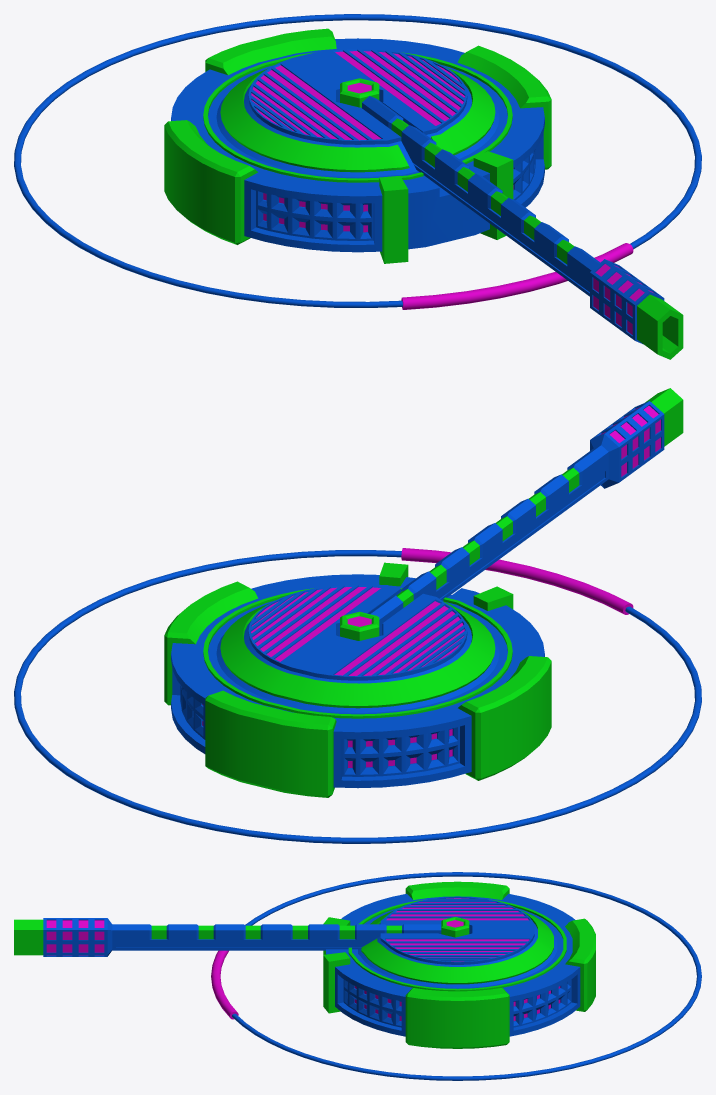
File: Turret.fbx
3 renders of one model, top to bottom at view 1: azimuth 30°, elevation 25°; view 2: azimuth 150°, elevation 25°; view 3: azimuth 270°, elevation 25°, orthographic. The views are drawn at different scales.
Parts seen in each view (by area): view 1: Cylinder; view 2: Cylinder; view 3: Cylinder.
Part boxes in pixels (x1,y1,x2,y2): Cylinder: [14, 14, 701, 359]; Cylinder: [14, 388, 701, 843]; Cylinder: [14, 872, 701, 1080].
Size of the model in its own units: 368 by 61.05 by 519.
